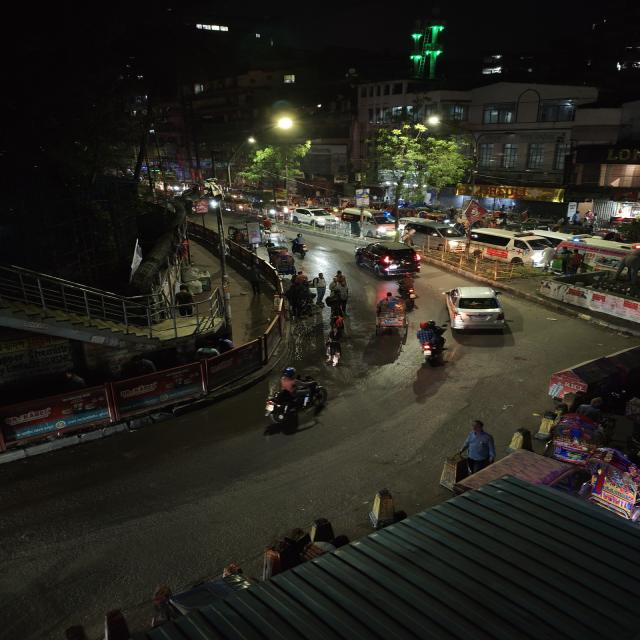car: (464, 226, 558, 266), (441, 284, 511, 334), (353, 238, 423, 280), (398, 218, 469, 252), (346, 207, 392, 241), (465, 421, 495, 469), (289, 206, 338, 228)
motorcycle: (258, 367, 328, 427), (413, 319, 449, 368), (395, 274, 421, 308), (289, 232, 310, 260)
pedestrian: (318, 332, 346, 366), (324, 308, 352, 336), (331, 279, 351, 309), (313, 271, 329, 305)
rickshaw: (539, 396, 606, 460), (371, 291, 409, 337), (267, 247, 298, 278)
